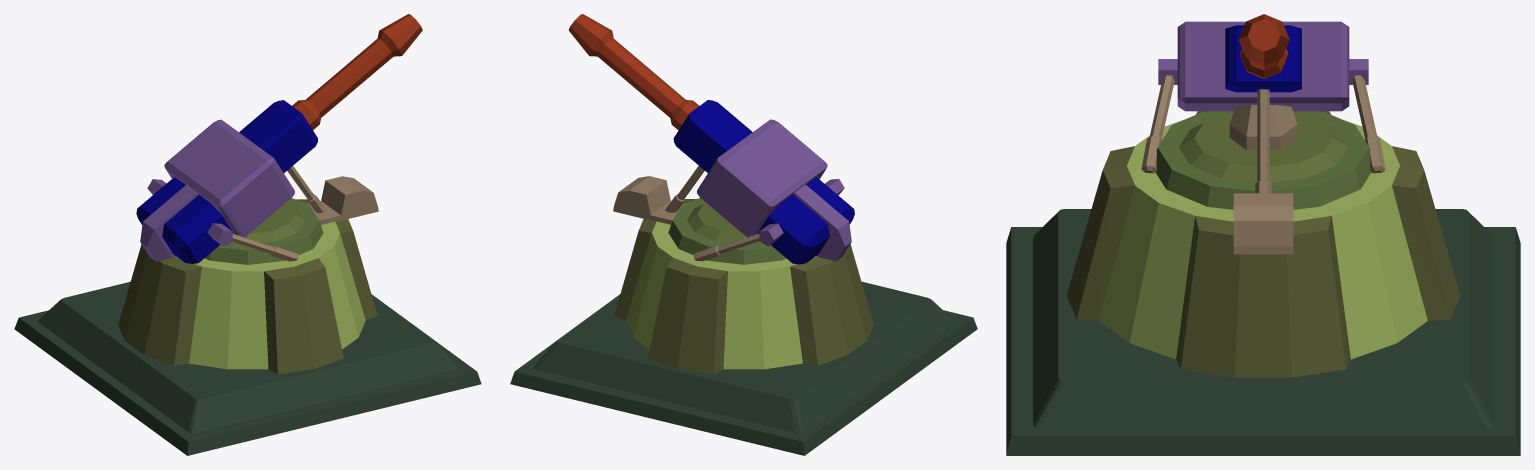
File: Cannon-RR-1.fbx
3 renders of one model, left to right at view 1: azimuth 30°, elevation 25°; view 2: azimuth 150°, elevation 25°; view 3: azimuth 270°, elevation 25°, orthographic. The views are drawn at different scales.
Parts seen in each view (by area): view 1: russien_2:base, russien_2:attack; view 2: russien_2:base, russien_2:attack; view 3: russien_2:base, russien_2:attack.
Boxes of the visible parts, left/top/right/bottom form: russien_2:base: left=14, top=198, right=481, bottom=455; russien_2:attack: left=136, top=14, right=422, bottom=263; russien_2:base: left=510, top=198, right=977, bottom=455; russien_2:attack: left=568, top=14, right=854, bottom=264; russien_2:base: left=1006, top=111, right=1520, bottom=455; russien_2:attack: left=1141, top=14, right=1385, bottom=254.
Bounding box in the file's own units: 2261 × 2042 × 2121.
